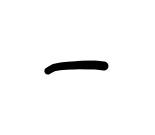minus: (44, 60, 106, 76)
